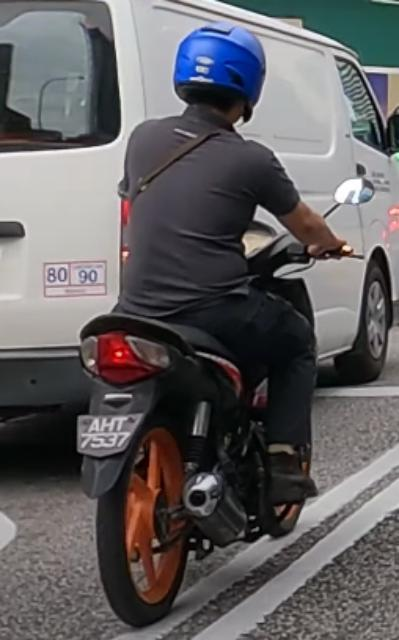License_Plate: (76, 412, 145, 459)
motorcycle: (76, 178, 377, 629)
